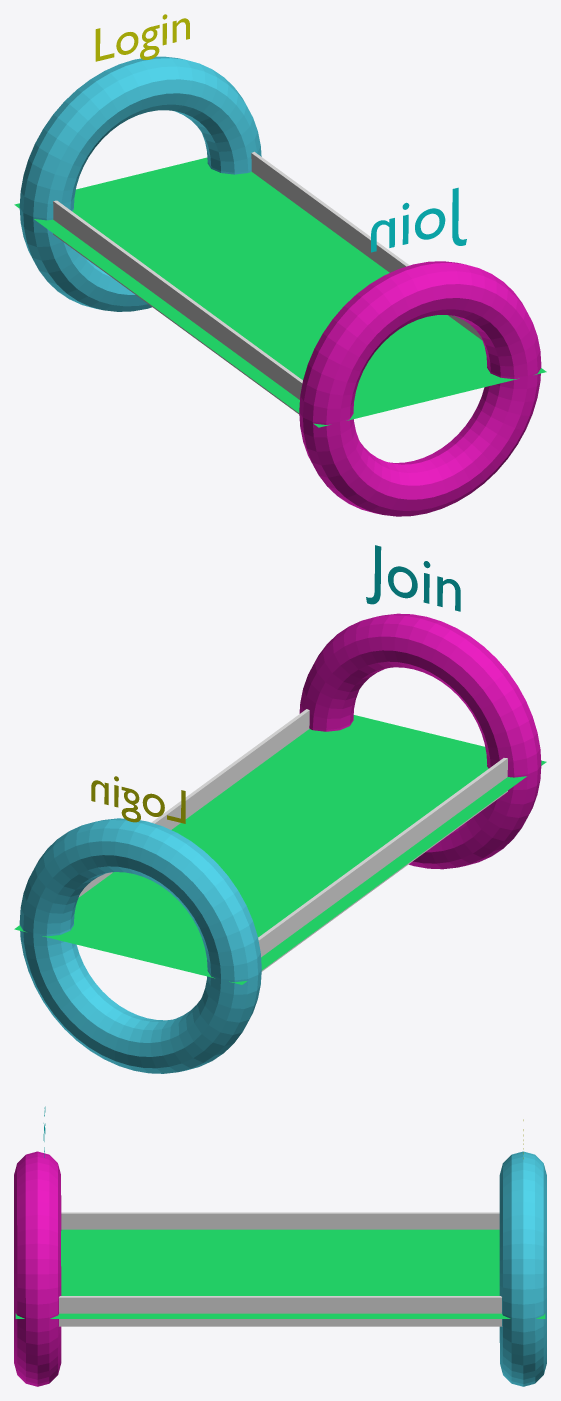
File: place.glb
3 views of the same model, one above another, from view 1: azimuth 30°, elevation 25°; view 2: azimuth 150°, elevation 25°; view 3: azimuth 270°, elevation 25° (orthographic). The views are drawn at different scales.
Parts seen in each view (by area): view 1: Plane, Torus, Torus.001, Cube.001, Cube, Text.002, Text; view 2: Plane, Torus.001, Torus, Cube.001, Cube, Text.002, Text; view 3: Plane, Cube, Torus.001, Torus, Cube.001.
Boxes of the visible parts, x1,y1,x2,y2 form: Plane: (14, 157, 546, 427); Torus: (299, 261, 541, 516); Torus.001: (19, 56, 261, 311); Cube.001: (53, 200, 302, 414); Cube: (251, 151, 482, 340); Text.002: (371, 187, 466, 252); Text: (95, 14, 189, 61); Plane: (14, 715, 546, 984); Torus.001: (19, 818, 261, 1073); Torus: (299, 613, 541, 869); Cube.001: (258, 758, 507, 971); Cube: (78, 709, 309, 897); Text.002: (366, 545, 460, 611); Text: (91, 776, 185, 823); Plane: (15, 1229, 545, 1318); Cube: (59, 1296, 502, 1326); Torus.001: (499, 1151, 546, 1386); Torus: (14, 1151, 61, 1386); Cube.001: (61, 1212, 499, 1229).
Bounding box in the file's own units: 52.61 × 66.68 × 119.
